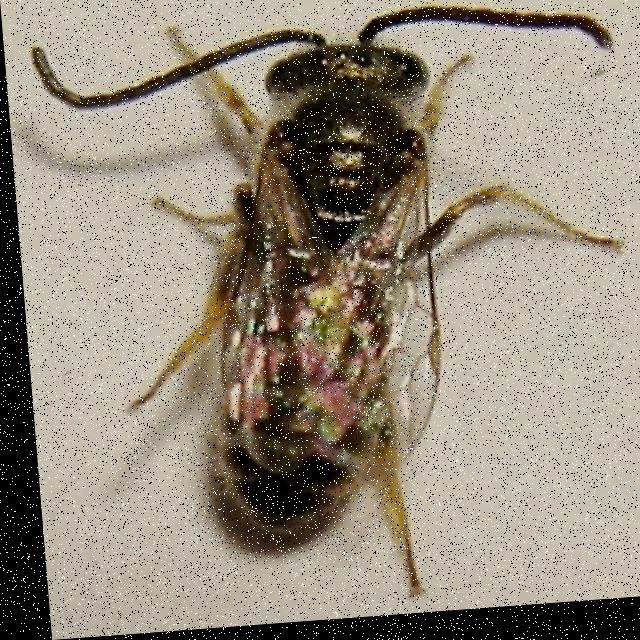Seladonia: (21, 0, 640, 601)
